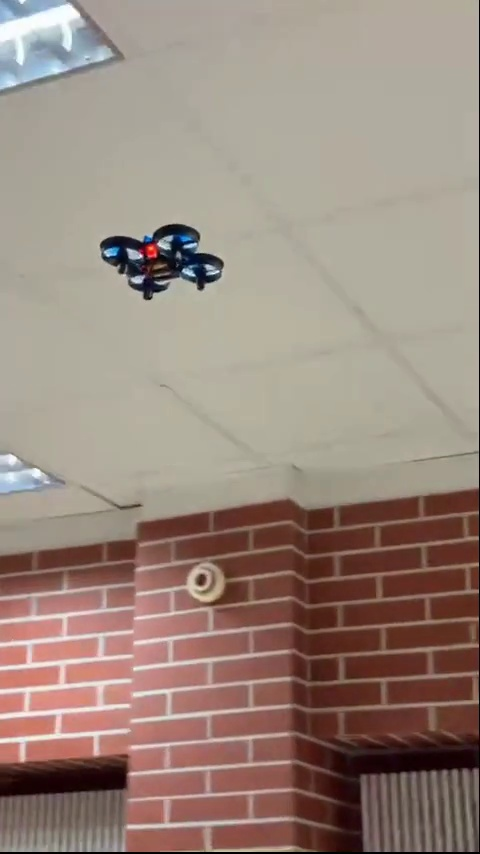drone: (95, 225, 229, 292)
